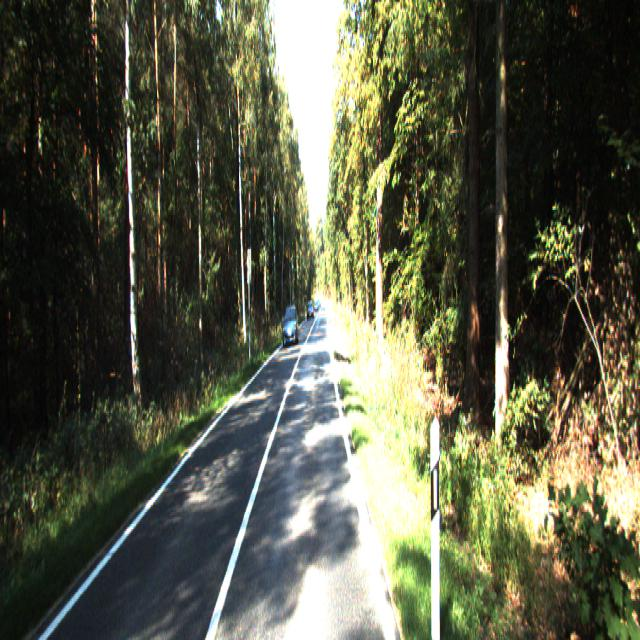Car: (282, 303, 299, 347)
